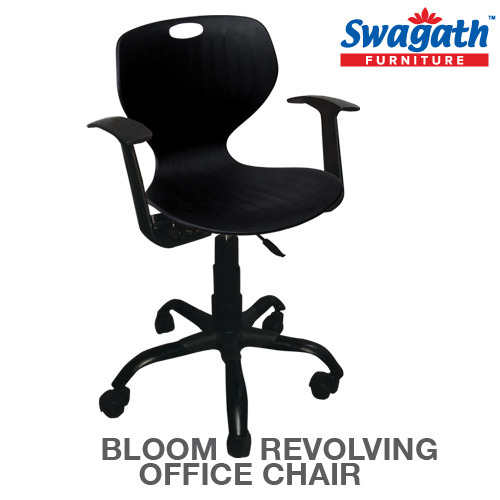chairs: (85, 18, 362, 460)
